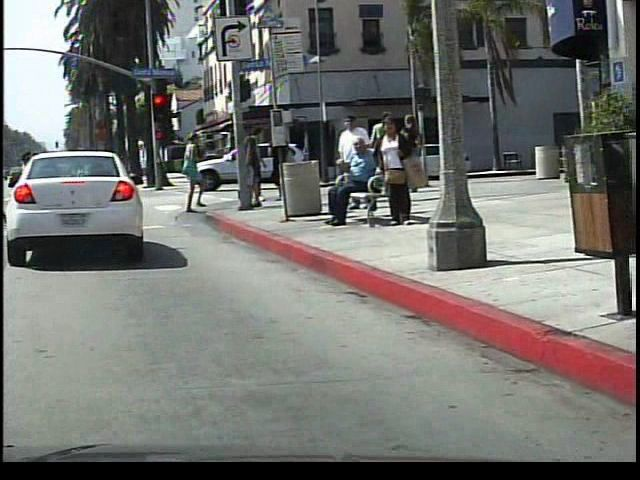person: (327, 141, 387, 227), (377, 116, 417, 234), (176, 127, 222, 218)
